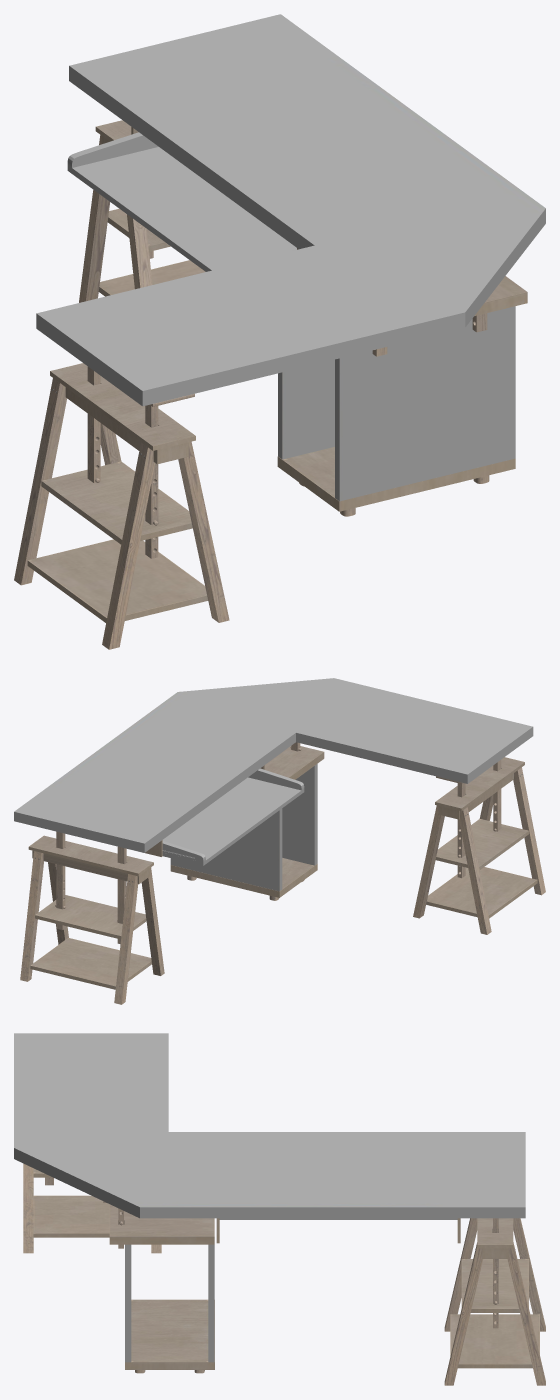
The model's file is desk.glb.
3 renders of one model, top to bottom at view 1: azimuth 30°, elevation 25°; view 2: azimuth 150°, elevation 25°; view 3: azimuth 270°, elevation 25°, orthographic. The views are drawn at different scales.
Visible parts, largest first — view 1: defaultMaterial; view 2: defaultMaterial; view 3: defaultMaterial.
Boxes of the visible parts, x1,y1,x2,y2 form: defaultMaterial: [14, 14, 545, 649]; defaultMaterial: [14, 678, 545, 1004]; defaultMaterial: [14, 1033, 545, 1385].
Size of the model in its own units: 16.96 by 8.05 by 20.77.
Materials: 1 (1 with a texture image).
